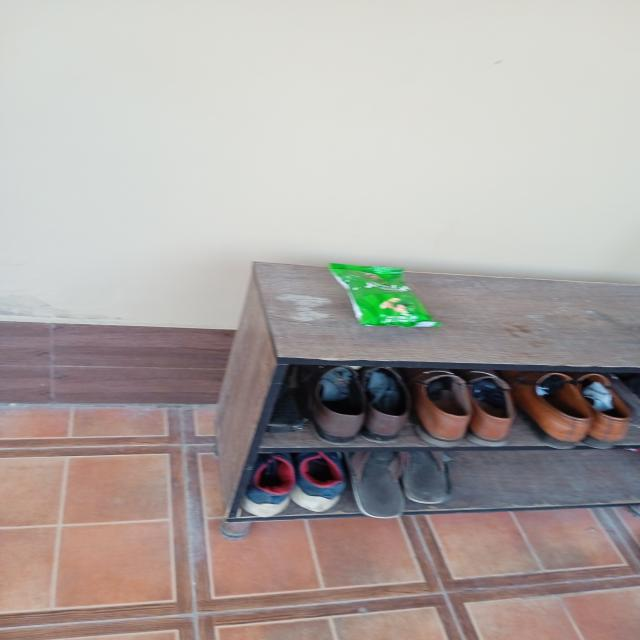Plastic: (330, 257, 441, 334)
